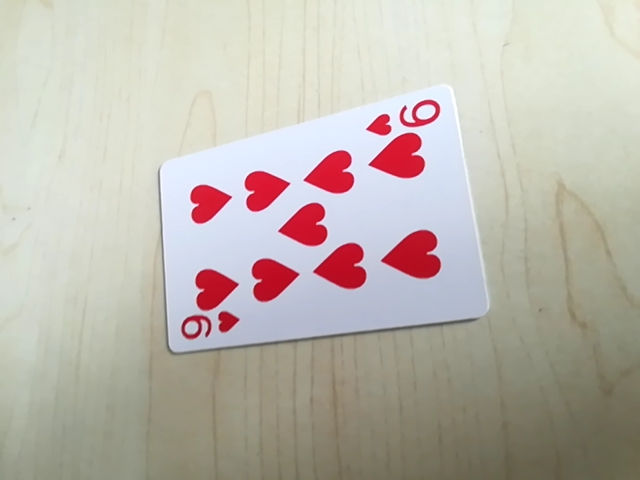hx 9: (364, 93, 450, 137), (174, 309, 241, 347)
